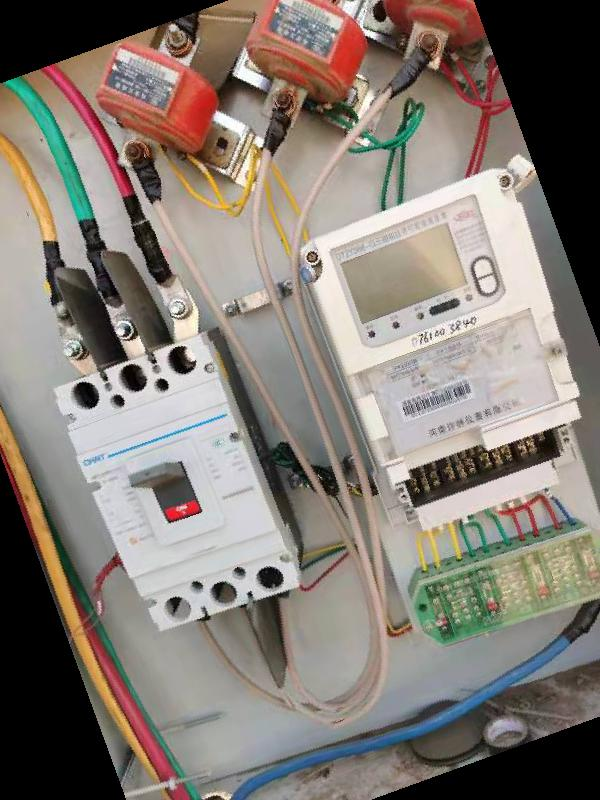digital: (303, 166, 578, 465)
